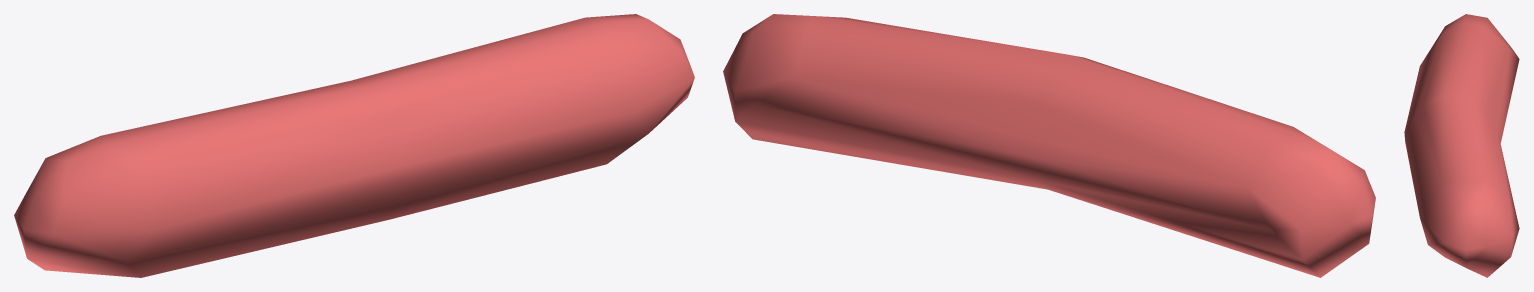
Rendered from Anterior_communicating_artery.glb.
3 renders of one model, left to right at view 1: azimuth 30°, elevation 25°; view 2: azimuth 150°, elevation 25°; view 3: azimuth 270°, elevation 25°, orthographic. The views are drawn at different scales.
Parts seen in each view (by area): view 1: Anterior_communicating_artery_grp1.2230; view 2: Anterior_communicating_artery_grp1.2230; view 3: Anterior_communicating_artery_grp1.2230.
Boxes of the visible parts, <box> form: Anterior_communicating_artery_grp1.2230: <box>14,14,694,277</box>; Anterior_communicating_artery_grp1.2230: <box>723,14,1375,277</box>; Anterior_communicating_artery_grp1.2230: <box>1404,14,1519,277</box>.
Size of the model in its own units: 0.00678 by 0.00133 by 0.00156.
